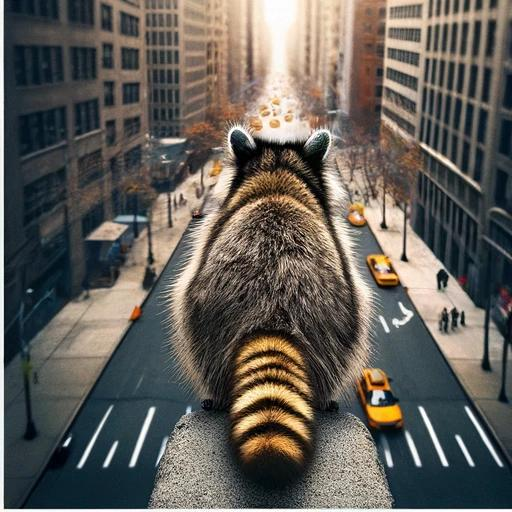raccoon: (160, 114, 381, 512)
